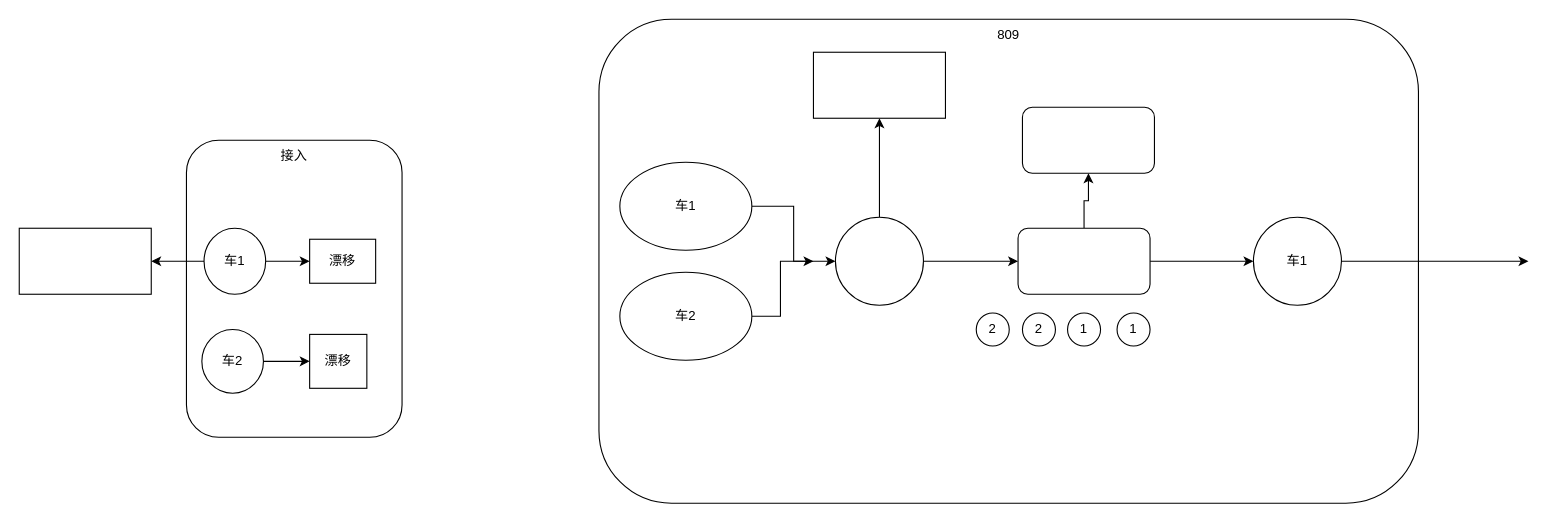
Some shapes in this 1557 by 523 pixel diagram are drawn without their labels. Here are the shapes that lost their labels. From the top down, the centre of each, then its label:
the point at 878,84: 用户过滤=>位置过滤
the point at 1087,139: 发现补偿的有问题 把车辆状态更改为故障
the point at 84,260: 故障的位置，在平台上还要不要
the point at 878,260: updata 位置 是使用车1 使用车2？
the point at 1083,260: 补偿分析 车辆
